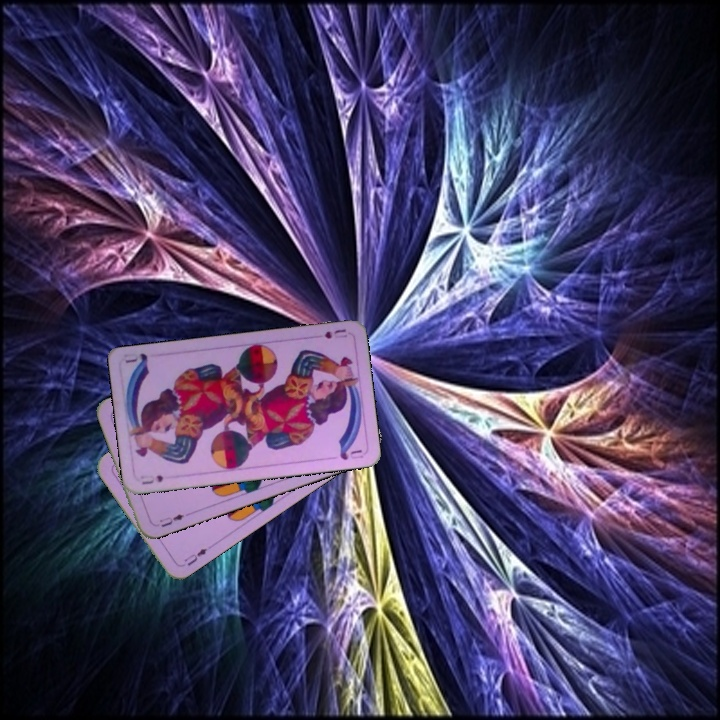EU: (180, 542, 214, 569), (151, 510, 187, 530)
SU: (310, 325, 349, 341), (137, 471, 166, 487)
